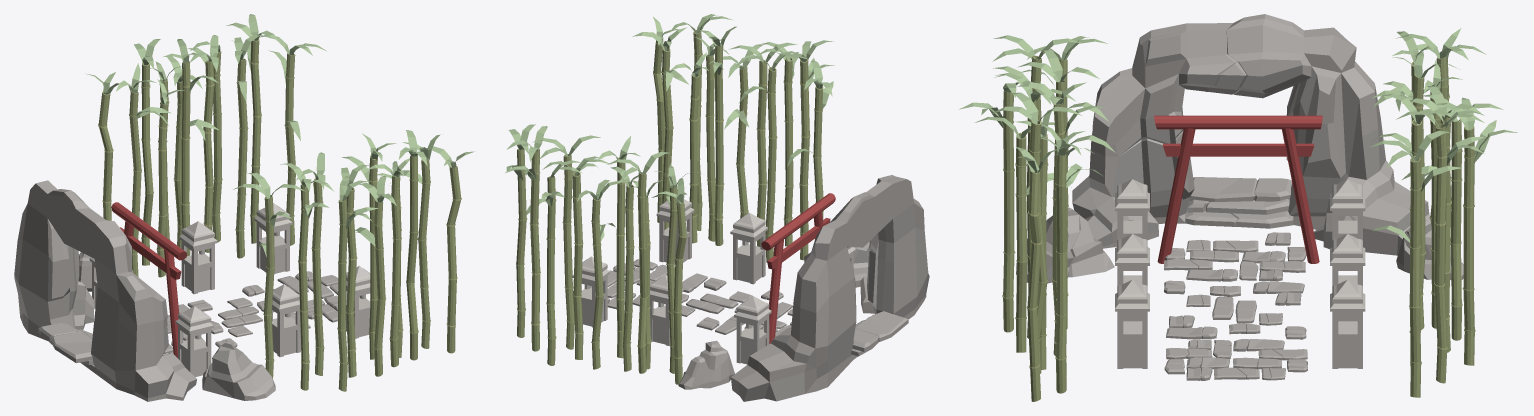
Rendered from ER_Asset_TunnelEntrance.fbx.
The picture shows the model from 3 angles, left to right: view 1: azimuth 30°, elevation 25°; view 2: azimuth 150°, elevation 25°; view 3: azimuth 270°, elevation 25°; orthographic projection. The views are drawn at different scales.
Parts seen in each view (by area): view 1: polySurface3699; view 2: polySurface3699; view 3: polySurface3699.
Part boxes in pixels (x1=…): polySurface3699: x1=14, y1=14, x2=475, y2=401; polySurface3699: x1=505, y1=14, x2=929, y2=401; polySurface3699: x1=959, y1=14, x2=1517, y2=401.
Bounding box in the file's own units: 8.88 × 5.75 × 10.38.
